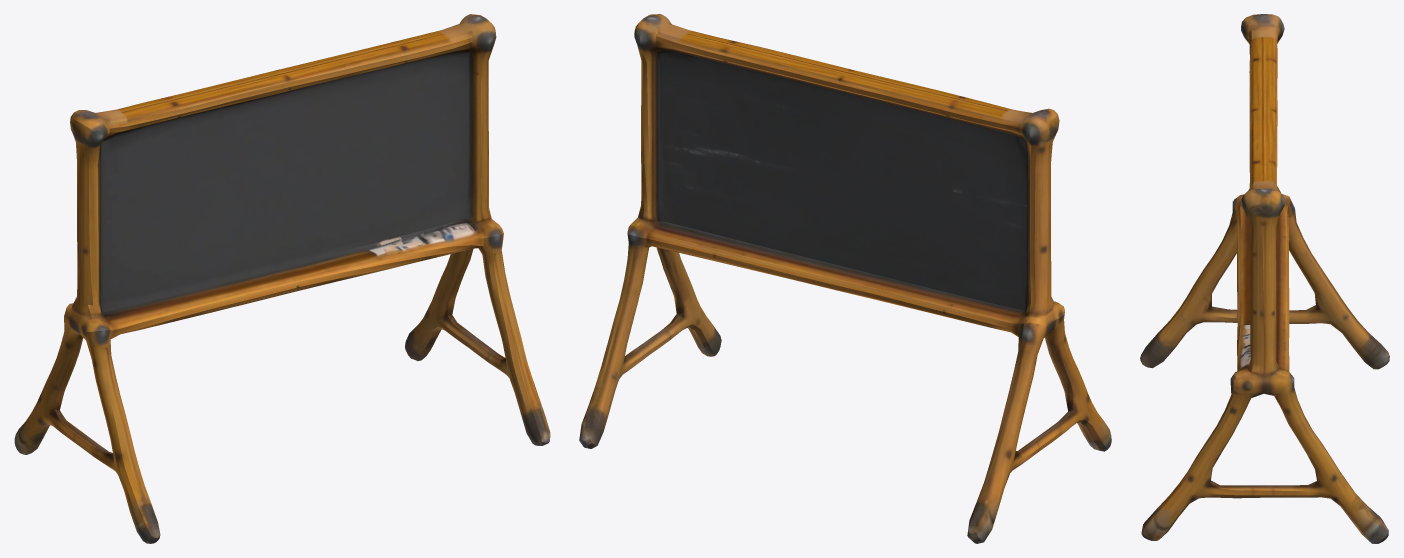
The model's file is schoolboard.glb.
The picture shows the model from 3 angles, left to right: view 1: azimuth 30°, elevation 25°; view 2: azimuth 150°, elevation 25°; view 3: azimuth 270°, elevation 25°; orthographic projection. The views are drawn at different scales.
Visible parts, largest first — view 1: Mesh0; view 2: Mesh0; view 3: Mesh0.
Boxes of the visible parts, box(x1,y1,x2,y2) form: Mesh0: box(14, 14, 550, 543); Mesh0: box(579, 14, 1111, 543); Mesh0: box(1140, 14, 1389, 543).
Bounding box in the file's own units: 2.01 × 1.78 × 1.15.
1 material, 1 textured.
